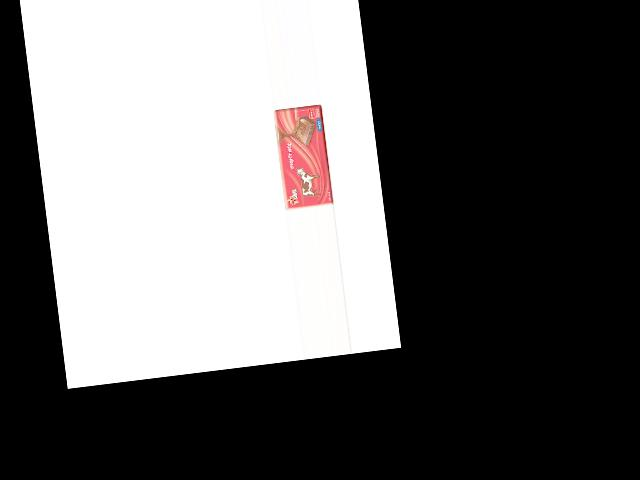chocolate: (272, 103, 333, 211)
